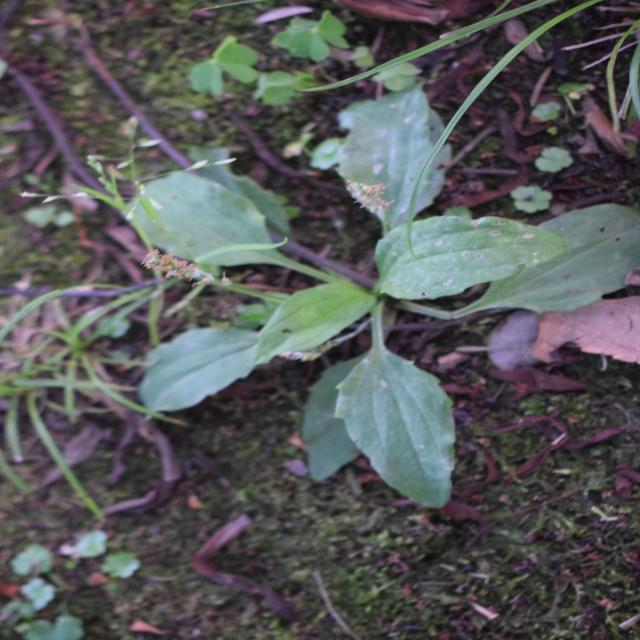plantain: (160, 128, 516, 590)
